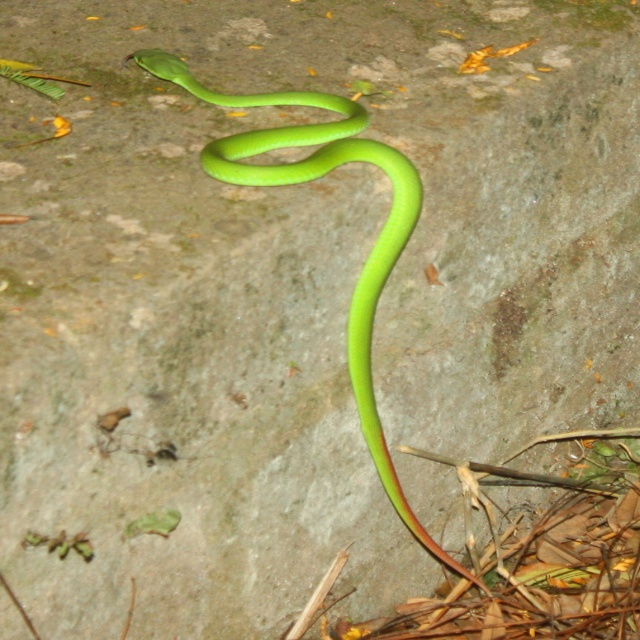Snake: (123, 51, 491, 600)
